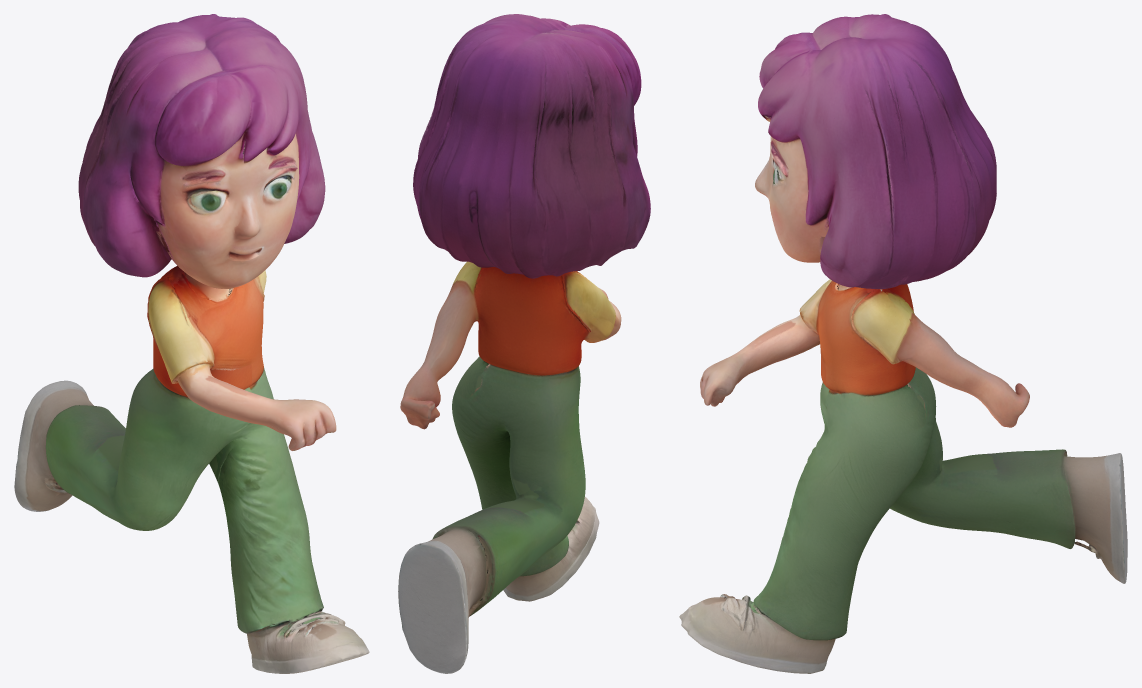
Rendered from NiñaEscuela1.glb.
The picture shows the model from 3 angles, left to right: view 1: azimuth 30°, elevation 25°; view 2: azimuth 150°, elevation 25°; view 3: azimuth 270°, elevation 25°; orthographic projection. The views are drawn at different scales.
Parts seen in each view (by area): view 1: model; view 2: model; view 3: model.
Part boxes in pixels (x1,y1,x2,y2): model: (14,14,369,673); model: (398,14,650,673); model: (679,14,1127,673).
Size of the model in its own units: 0.7103 by 1.9 by 1.26.
1 material, 1 textured.
